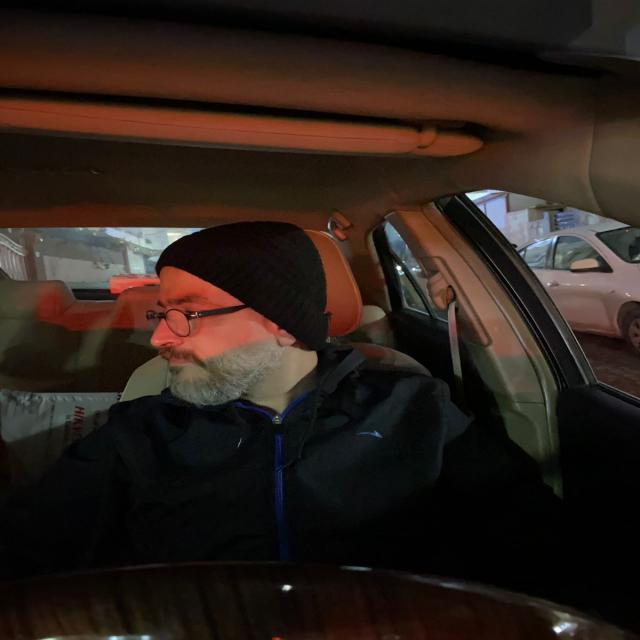LeftRight: (138, 218, 322, 422)
